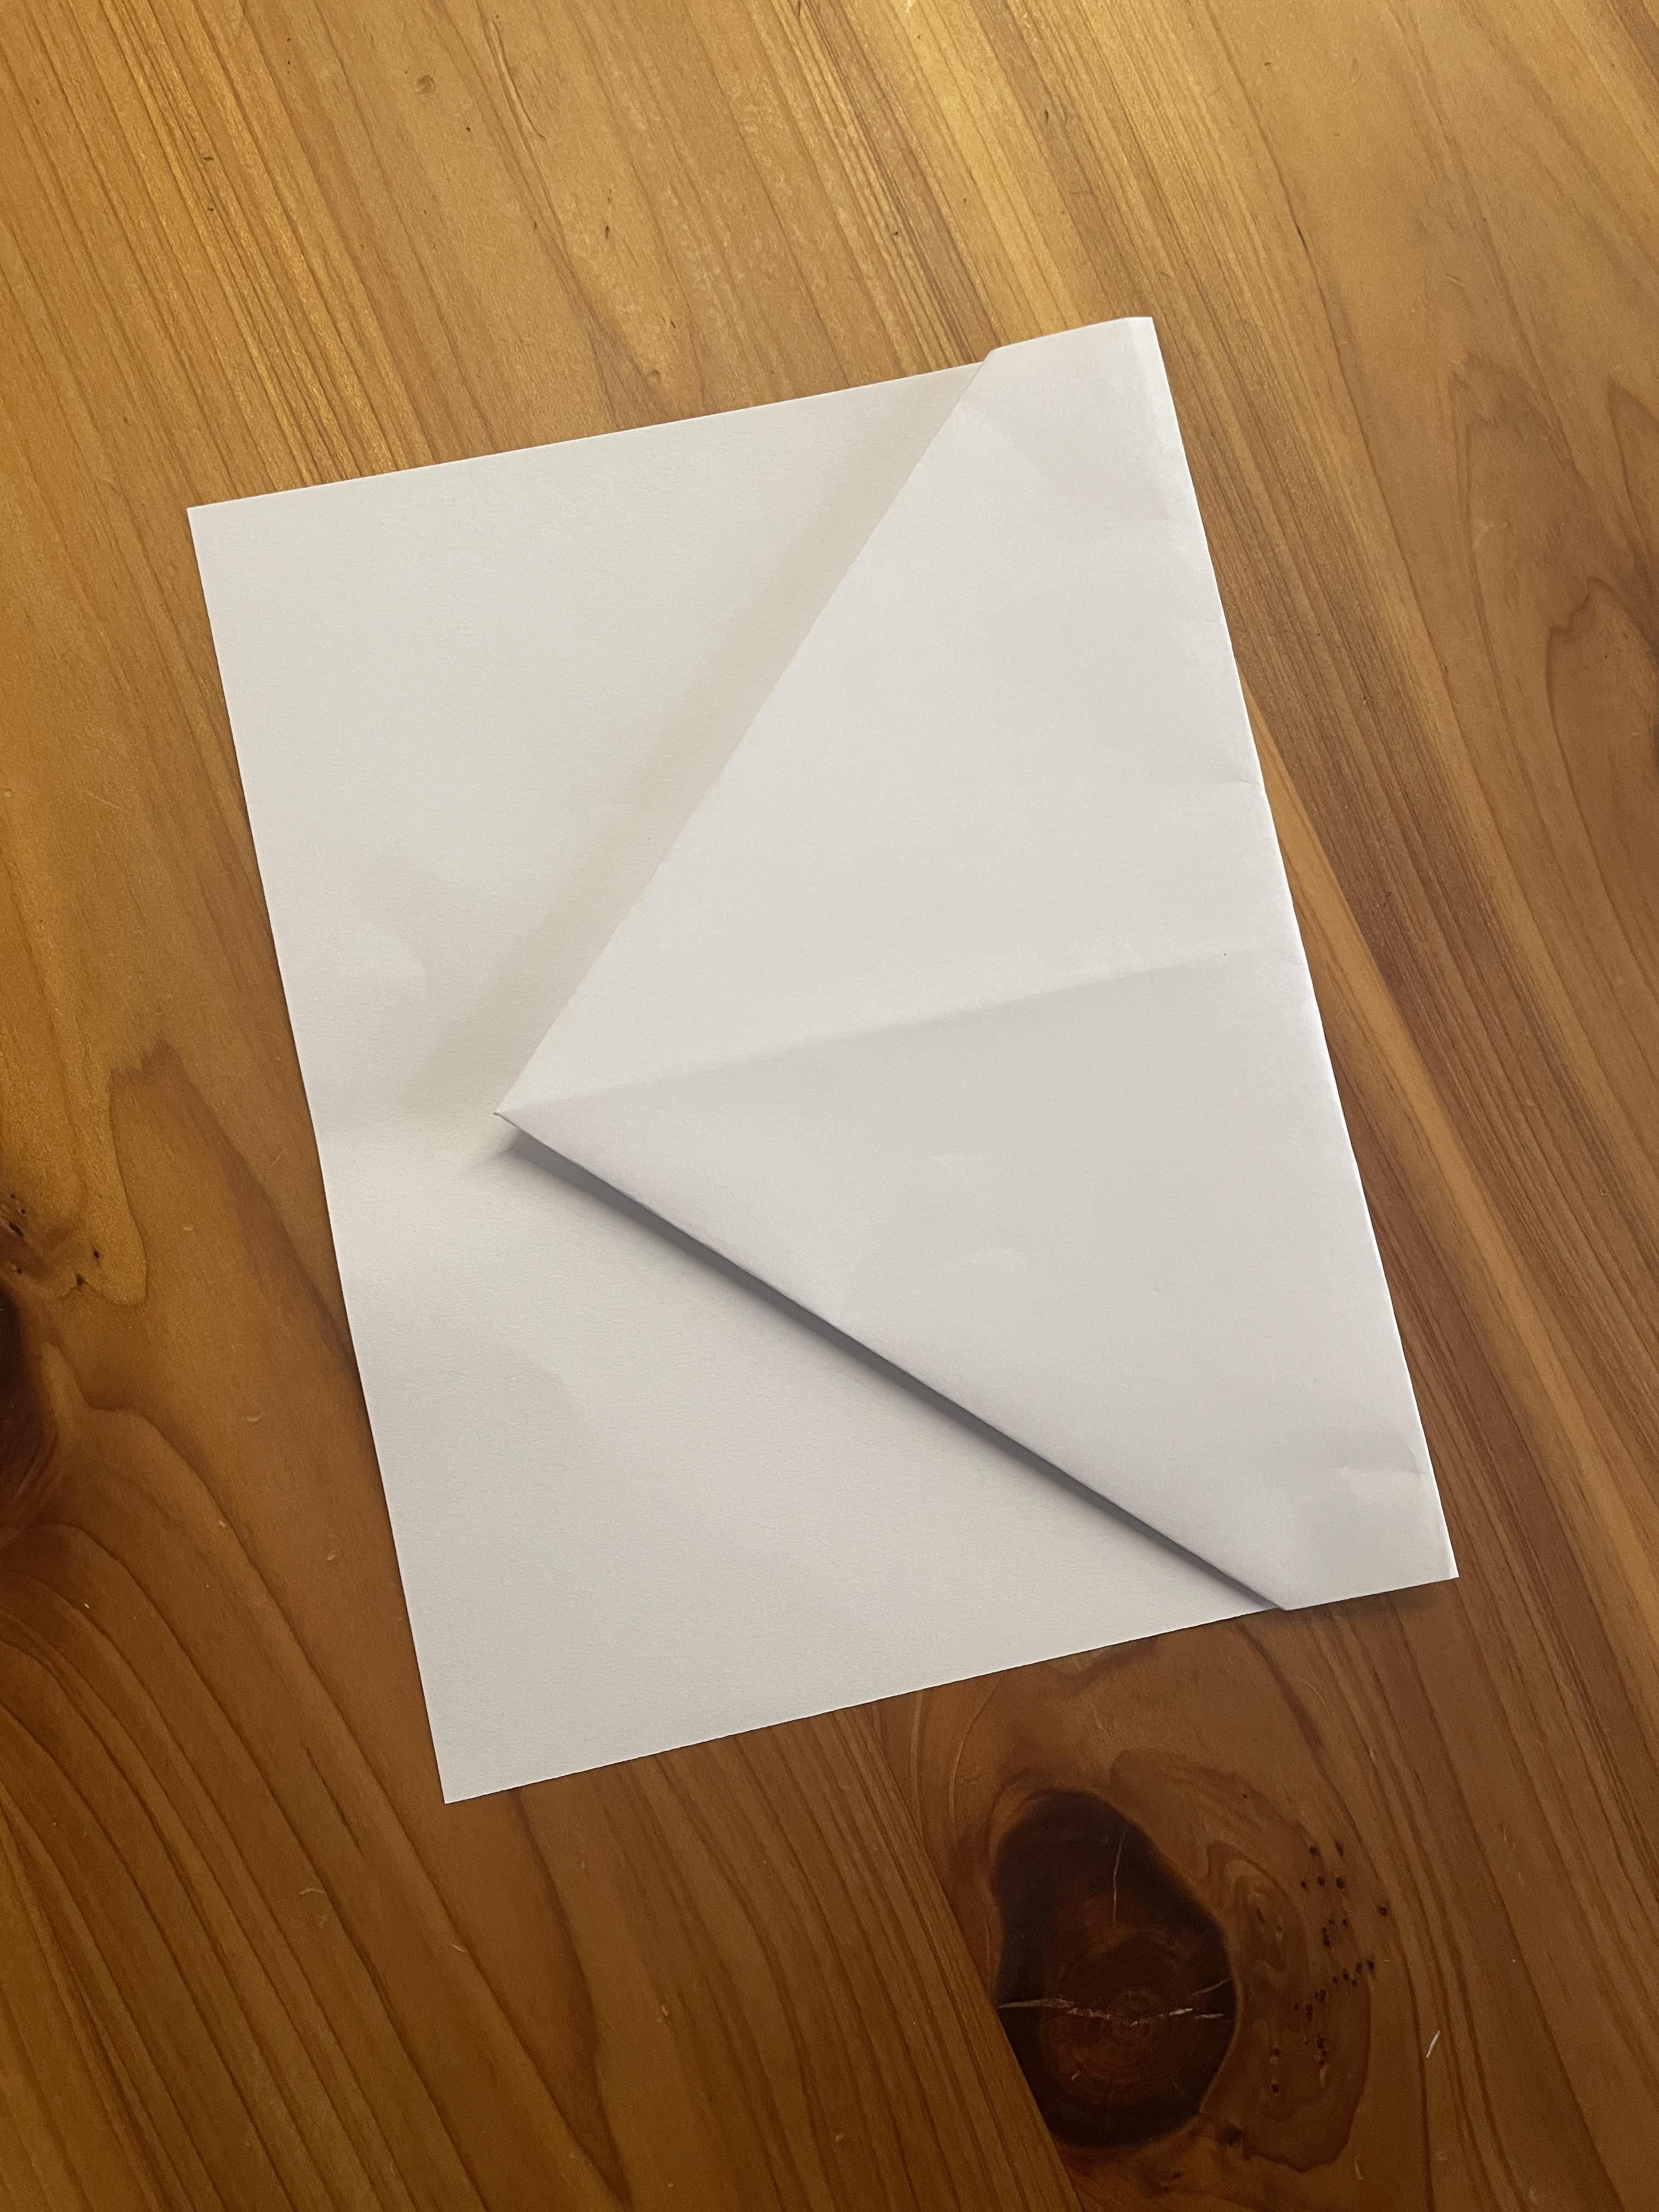shape_1: (61, 145, 1483, 1954)
